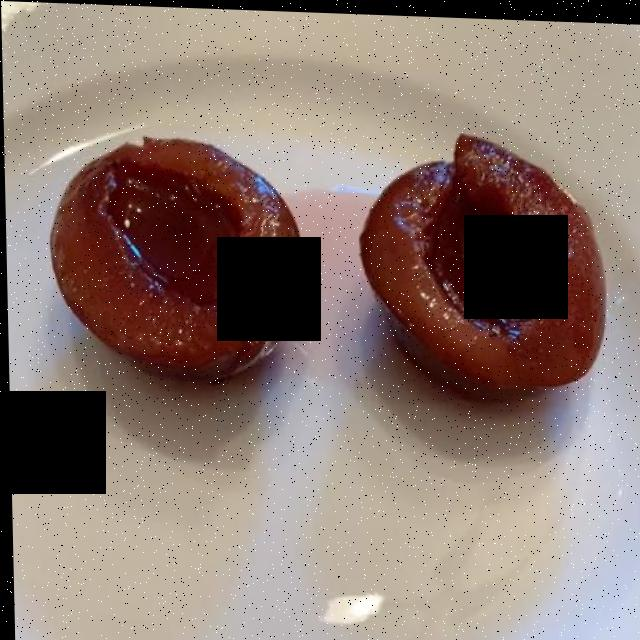plums: (58, 114, 628, 445)
